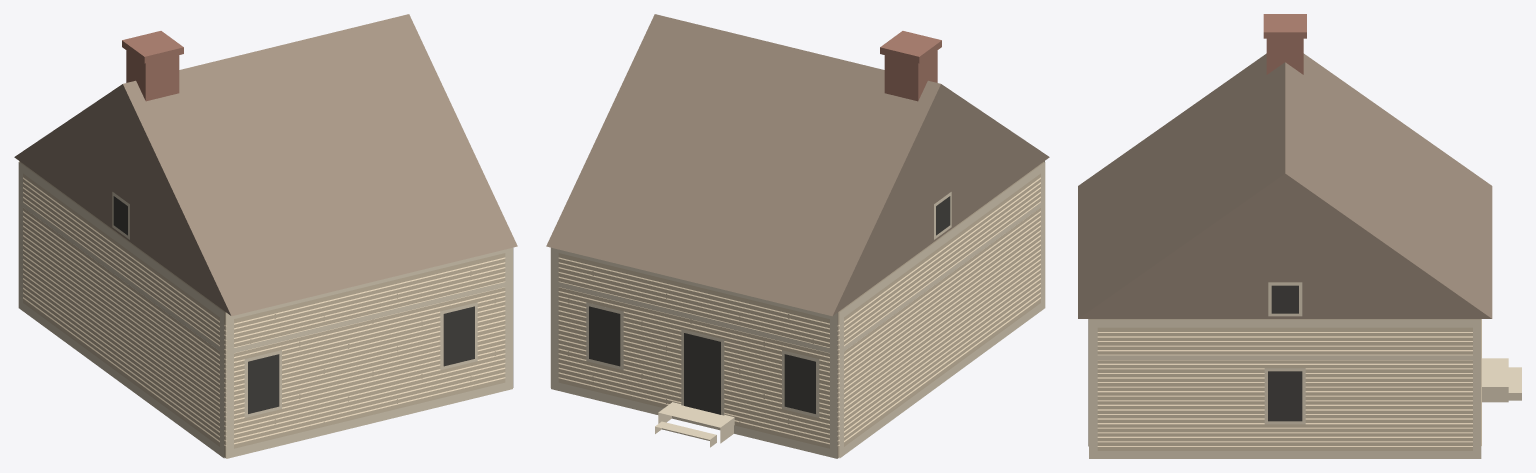
The model's file is recon_1835_south_d6_020__inferred_1835.glb.
3 views of the same model, side by side, from view 1: azimuth 30°, elevation 25°; view 2: azimuth 150°, elevation 25°; view 3: azimuth 270°, elevation 25° (orthographic). The views are drawn at different scales.
Parts seen in each view (by area): view 1: recon_1835_south_d6_020__inferred_1835; view 2: recon_1835_south_d6_020__inferred_1835; view 3: recon_1835_south_d6_020__inferred_1835.
Boxes of the visible parts, bbox=[...] form: recon_1835_south_d6_020__inferred_1835: bbox=[14, 14, 517, 458]; recon_1835_south_d6_020__inferred_1835: bbox=[546, 14, 1049, 458]; recon_1835_south_d6_020__inferred_1835: bbox=[1078, 14, 1521, 458].
Size of the model in its own units: 7.23 by 7.9 by 10.06.
